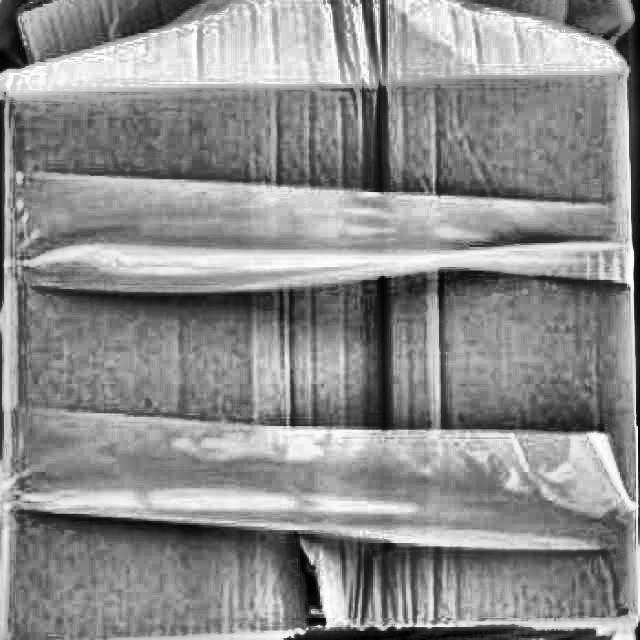box: (0, 0, 639, 639)
hole: (286, 541, 336, 627)
